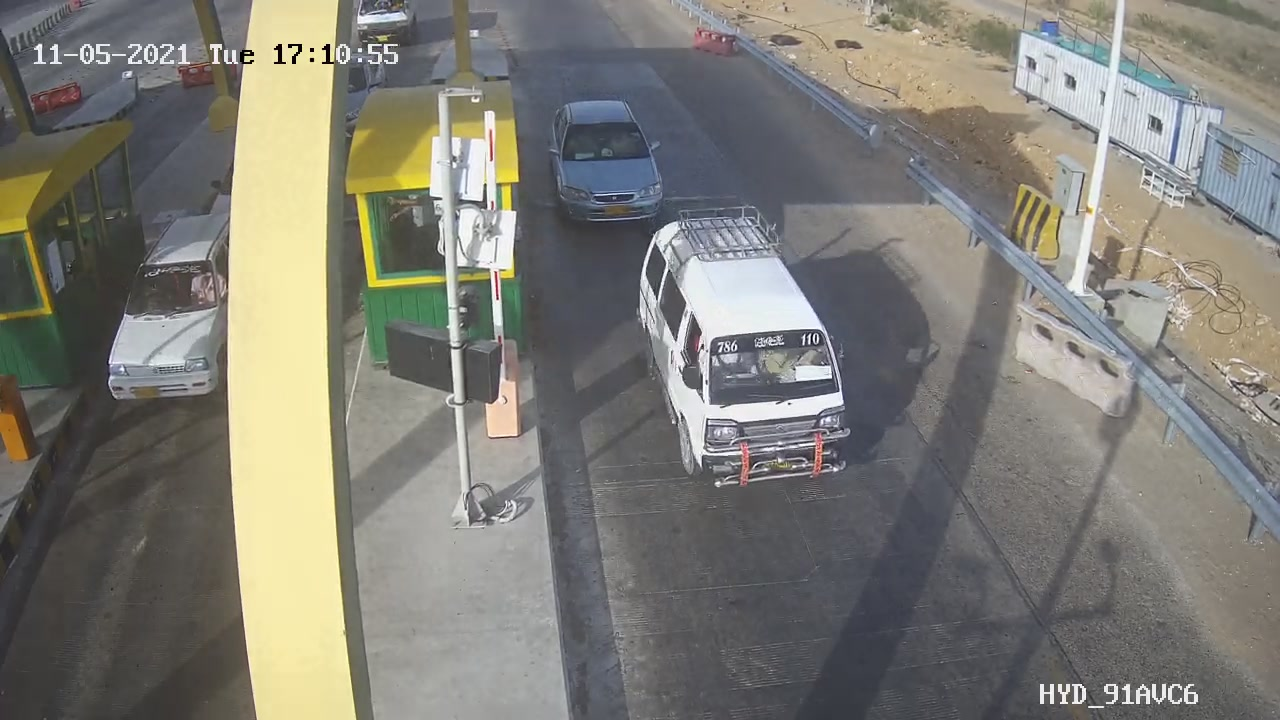F1: (613, 188, 883, 512), (531, 78, 687, 234)
